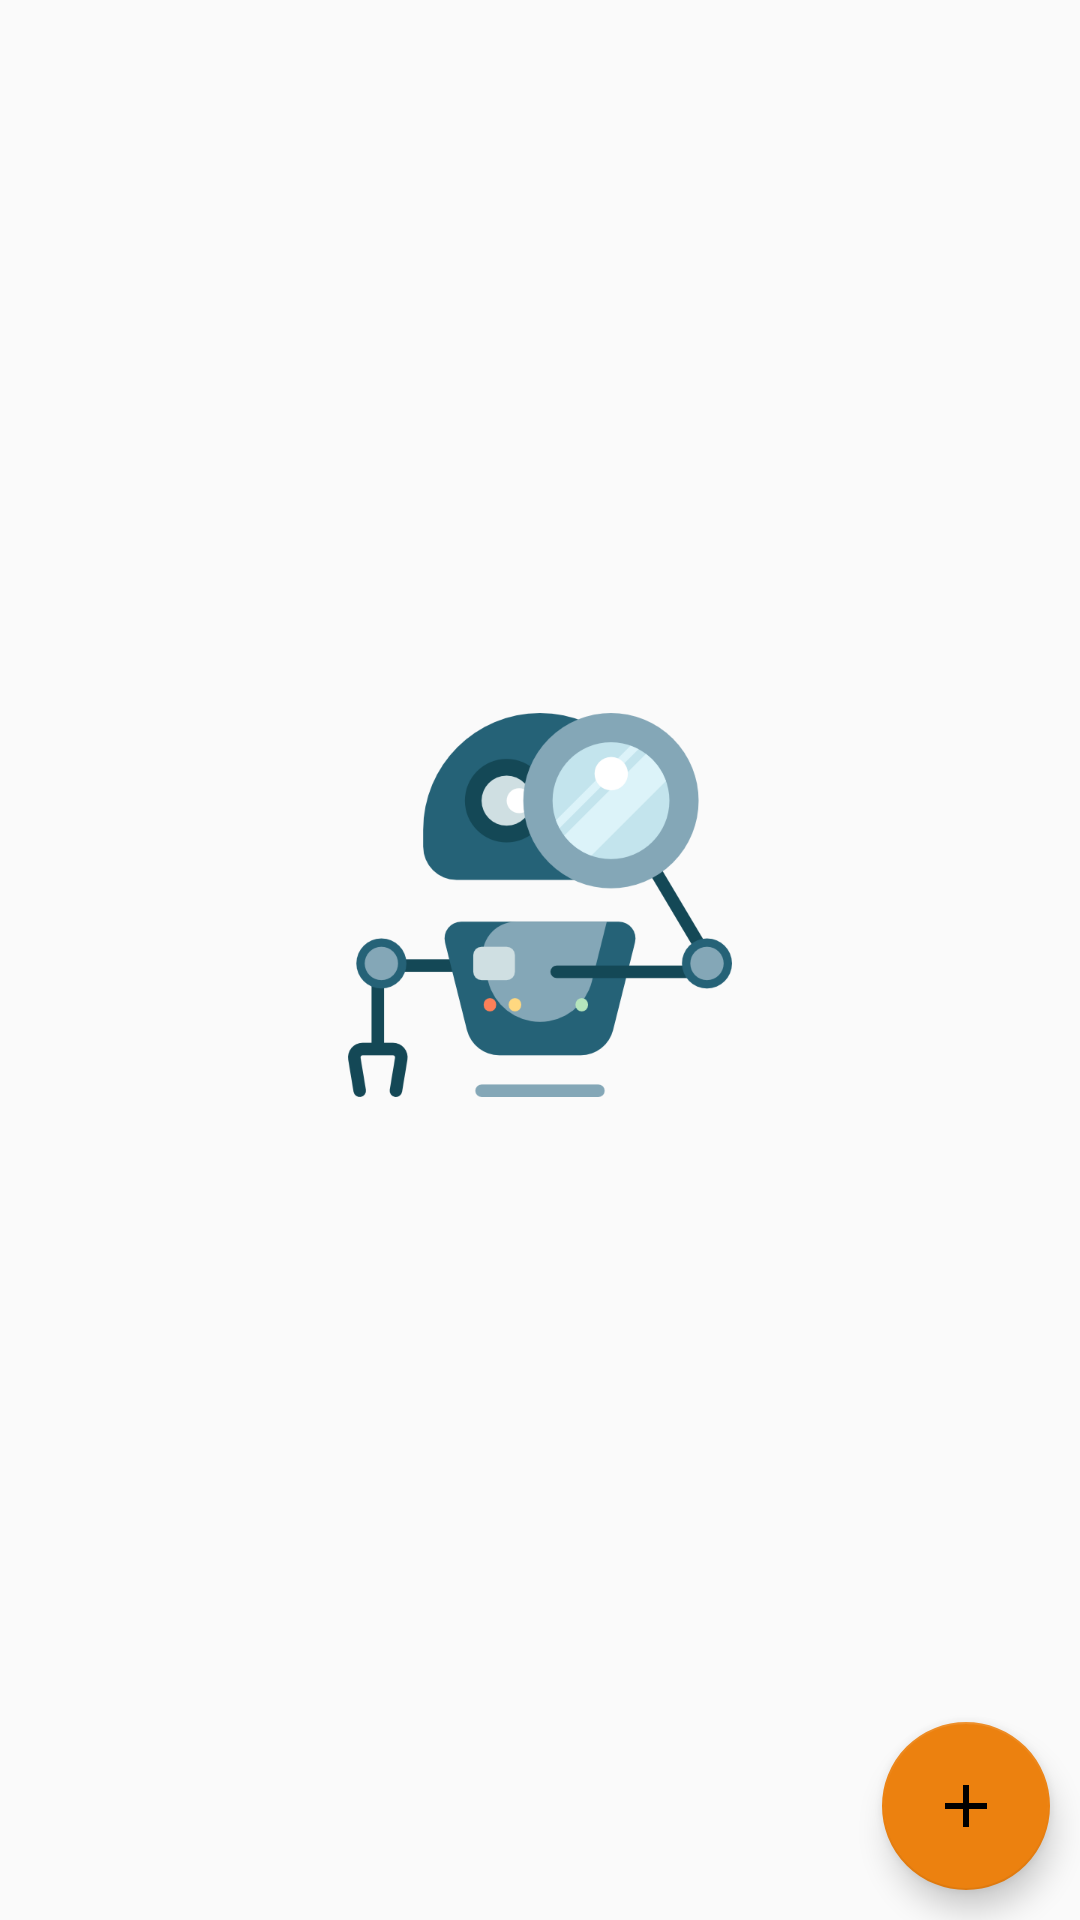

Icons on this 1080*1920 Android screen, each with the point to tap as point (x, y):
add Task: point (966, 1806)
